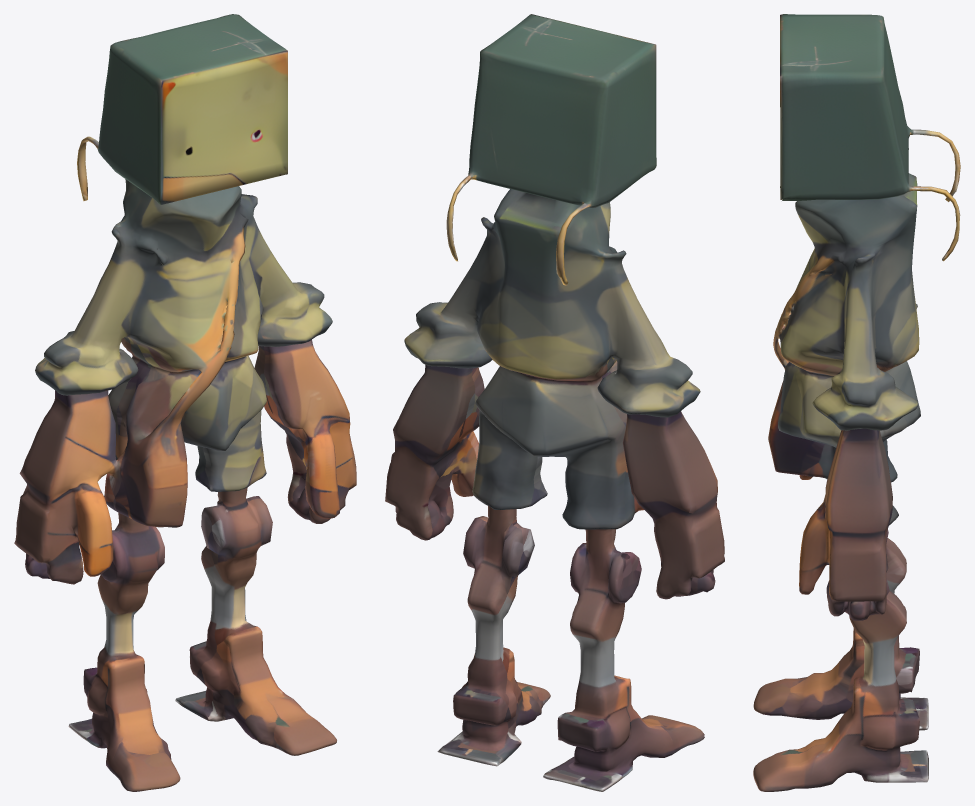
Rendered from cardboard_robot.glb.
3 views of the same model, side by side, from view 1: azimuth 30°, elevation 25°; view 2: azimuth 150°, elevation 25°; view 3: azimuth 270°, elevation 25° (orthographic).
Visible parts, largest first — view 1: model; view 2: model; view 3: model.
Part boxes in pixels (<box>): model: <box>14,14,356,791</box>; model: <box>385,14,724,791</box>; model: <box>753,14,960,791</box>.
Bounding box in the file's own units: 0.4787 × 1 × 0.2696.
Materials: 1 (1 with a texture image).
